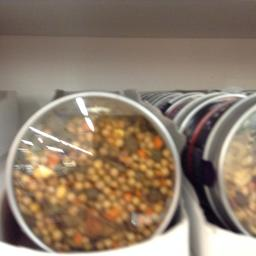spices: (4, 90, 180, 252)
